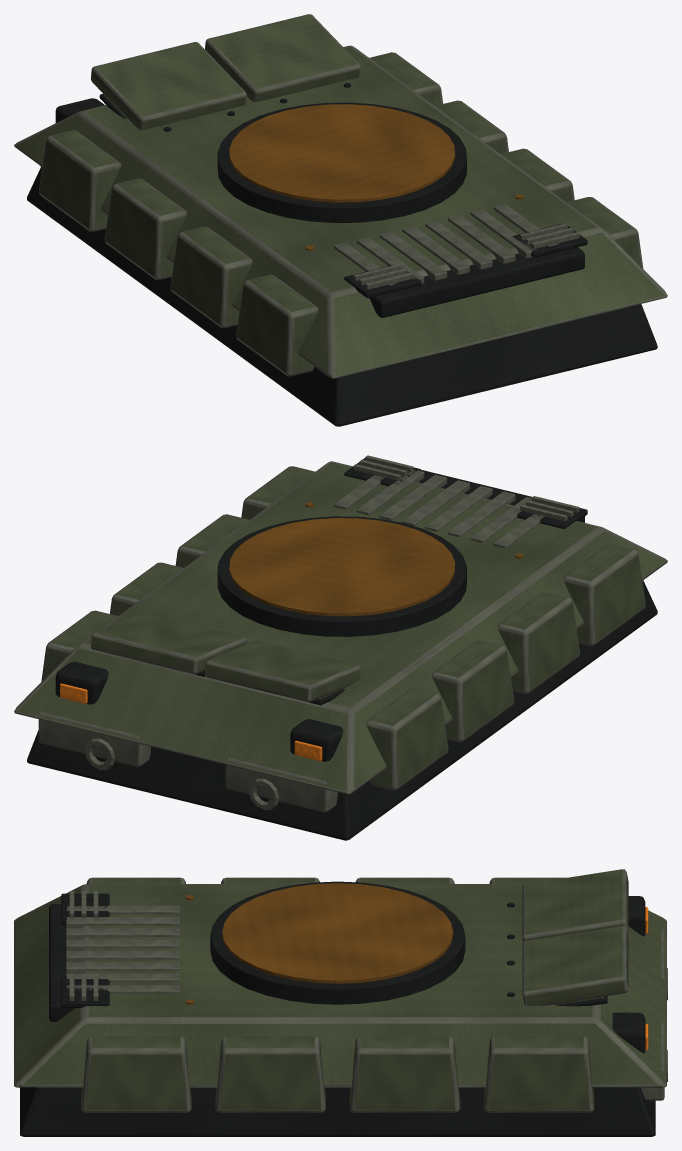
Rendered from bulwark-hull.fbx.
3 renders of one model, top to bottom at view 1: azimuth 30°, elevation 25°; view 2: azimuth 150°, elevation 25°; view 3: azimuth 270°, elevation 25°, orthographic. The views are drawn at different scales.
Parts seen in each view (by area): view 1: bulwark-hull_Armor, bulwark-hull_Steel, bulwark-hull_Brass, bulwark-hull_Edge; view 2: bulwark-hull_Armor, bulwark-hull_Steel, bulwark-hull_Brass, bulwark-hull_Edge, bulwark-hull_Optic; view 3: bulwark-hull_Armor, bulwark-hull_Steel, bulwark-hull_Brass, bulwark-hull_Edge.
Part boxes in pixels (bbox=[...]): bulwark-hull_Armor: bbox=[14, 14, 667, 378]; bulwark-hull_Steel: bbox=[27, 83, 657, 426]; bulwark-hull_Brass: bbox=[229, 104, 523, 250]; bulwark-hull_Edge: bbox=[40, 166, 579, 289]; bulwark-hull_Armor: bbox=[14, 461, 667, 794]; bulwark-hull_Steel: bbox=[27, 458, 657, 840]; bulwark-hull_Brass: bbox=[229, 502, 523, 616]; bulwark-hull_Edge: bbox=[38, 455, 579, 812]; bulwark-hull_Optic: bbox=[60, 683, 322, 760]; bulwark-hull_Armor: bbox=[14, 869, 666, 1112]; bulwark-hull_Steel: bbox=[20, 881, 655, 1136]; bulwark-hull_Brass: bbox=[185, 883, 453, 1004]; bulwark-hull_Edge: bbox=[66, 891, 667, 1100].
Size of the model in its own units: 315 by 111 by 487.
Materials: 5 (5 with a texture image).
